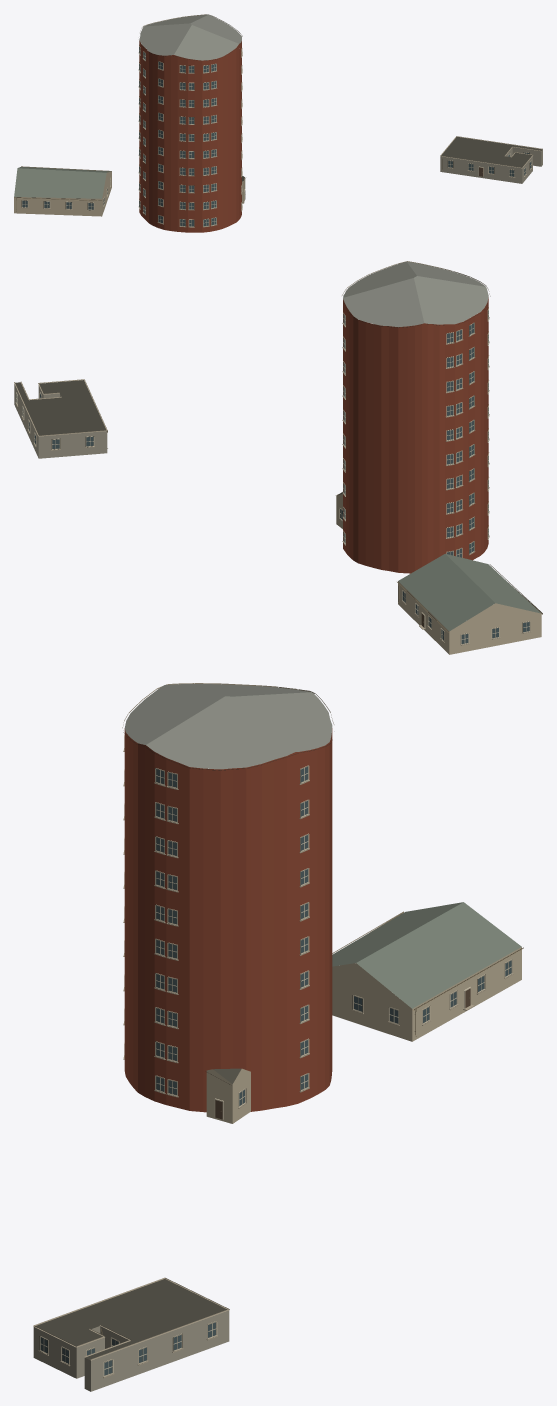
3 views of the same model, one above another, from view 1: azimuth 30°, elevation 25°; view 2: azimuth 150°, elevation 25°; view 3: azimuth 270°, elevation 25° (orthographic). The views are drawn at different scales.
Visible parts, largest first — view 1: -5_3_1466351079_114, -5_3_1466351080_115, -5_3_-10076052115_118; view 2: -5_3_1466351079_114, -5_3_1466351080_115, -5_3_-10076052115_118; view 3: -5_3_1466351079_114, -5_3_1466351080_115, -5_3_-10076052115_118.
Part boxes in pixels (left/top/right/bottom): -5_3_1466351079_114: left=14, top=14, right=542, bottom=232; -5_3_1466351080_115: left=14, top=157, right=483, bottom=216; -5_3_-10076052115_118: left=440, top=147, right=542, bottom=183; -5_3_1466351079_114: left=14, top=261, right=542, bottom=645; -5_3_1466351080_115: left=107, top=430, right=542, bottom=654; -5_3_-10076052115_118: left=14, top=384, right=107, bottom=458; -5_3_1466351079_114: left=33, top=683, right=523, bottom=1377; -5_3_1466351080_115: left=101, top=912, right=523, bottom=1334; -5_3_-10076052115_118: left=33, top=1310, right=229, bottom=1391.
Bounding box in the file's own units: 118 × 48.22 × 55.54.
